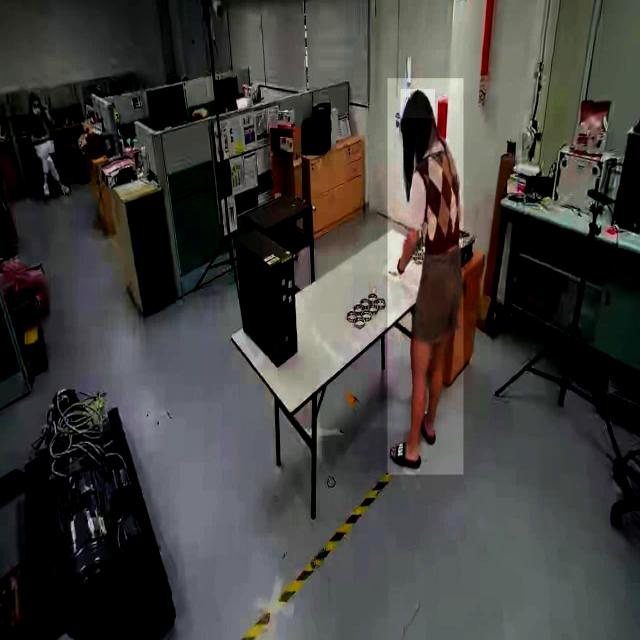face_mask: (31, 97, 43, 122)
head_nohelmet: (400, 89, 435, 119), (28, 90, 40, 100)
person: (387, 78, 463, 476), (27, 87, 68, 205)
